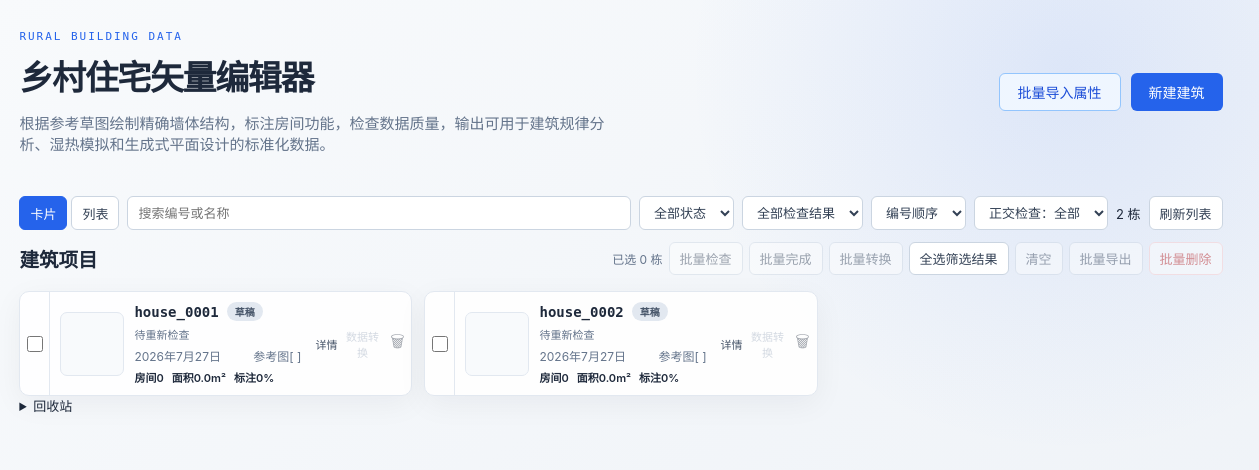
it: ProjectHome › exports every selected building with the default research scale
Click the button "全选筛选结果" at (958, 258), box [908,242,1008,275]
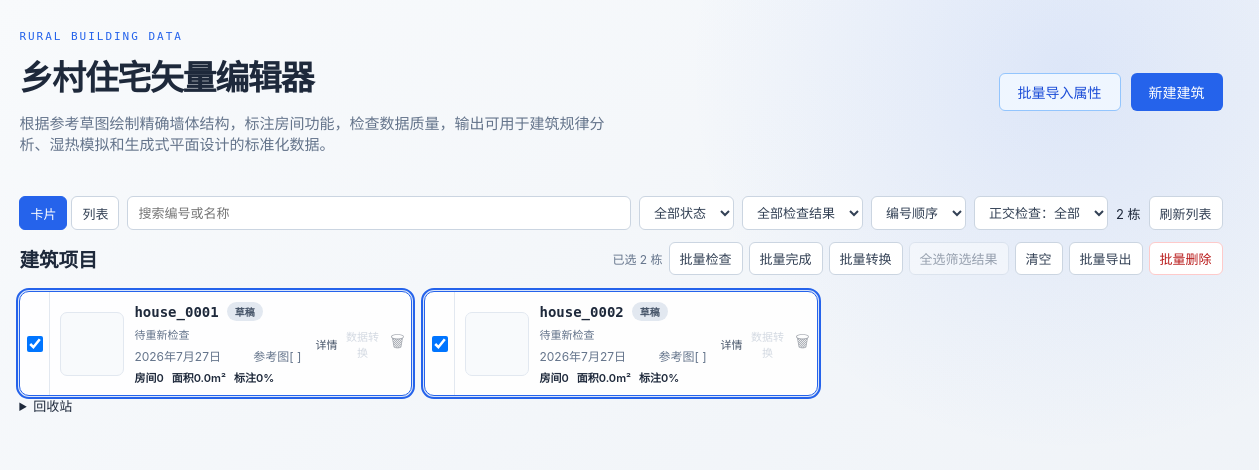
Click the button "批量导出" at (1106, 258), box [1069,242,1143,275]
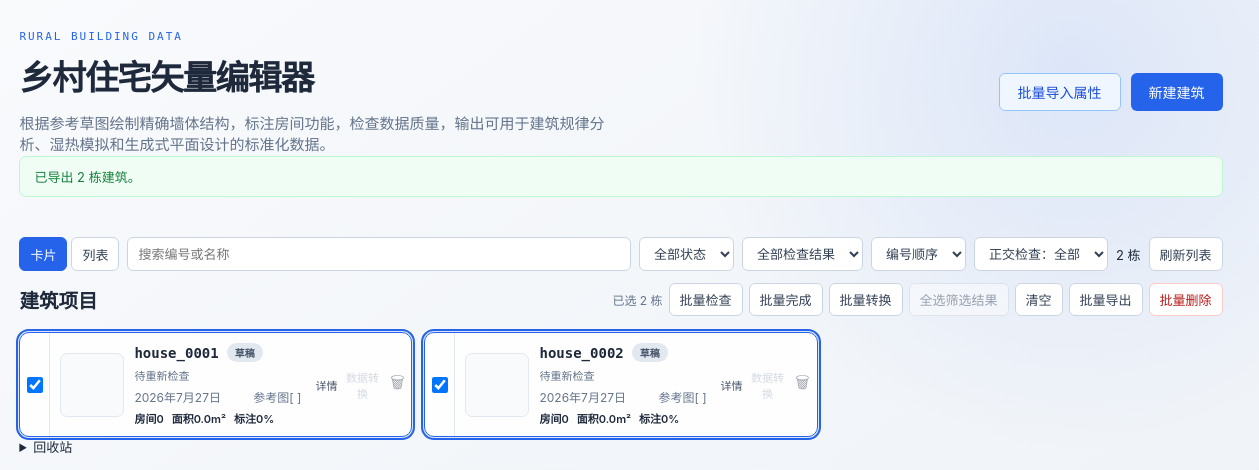
Check: the text "已导出 2 栋建筑。" is shown, box [19,156,1223,197]
